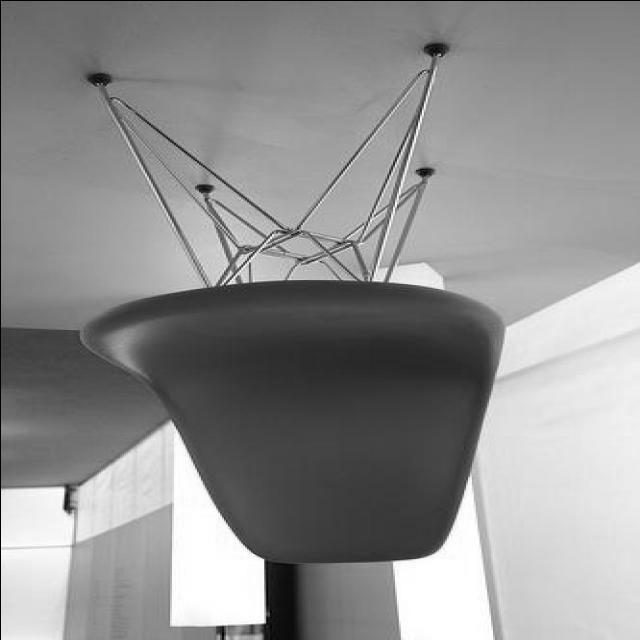chair: (66, 43, 520, 567)
